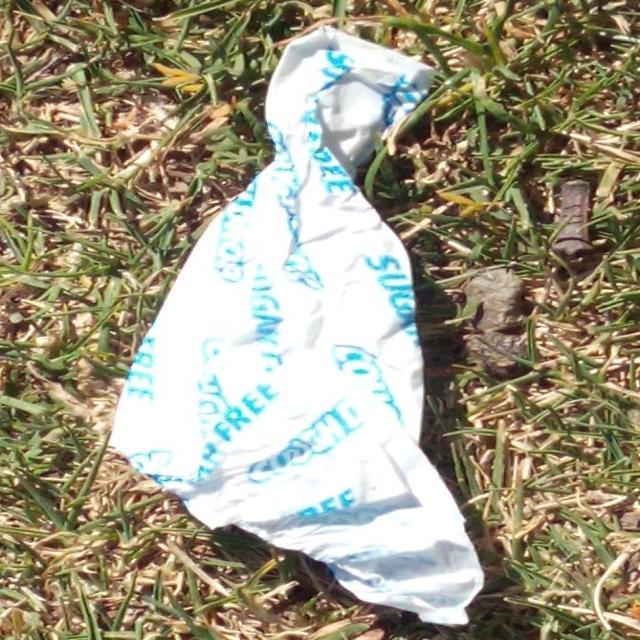litter: (86, 9, 490, 636)
